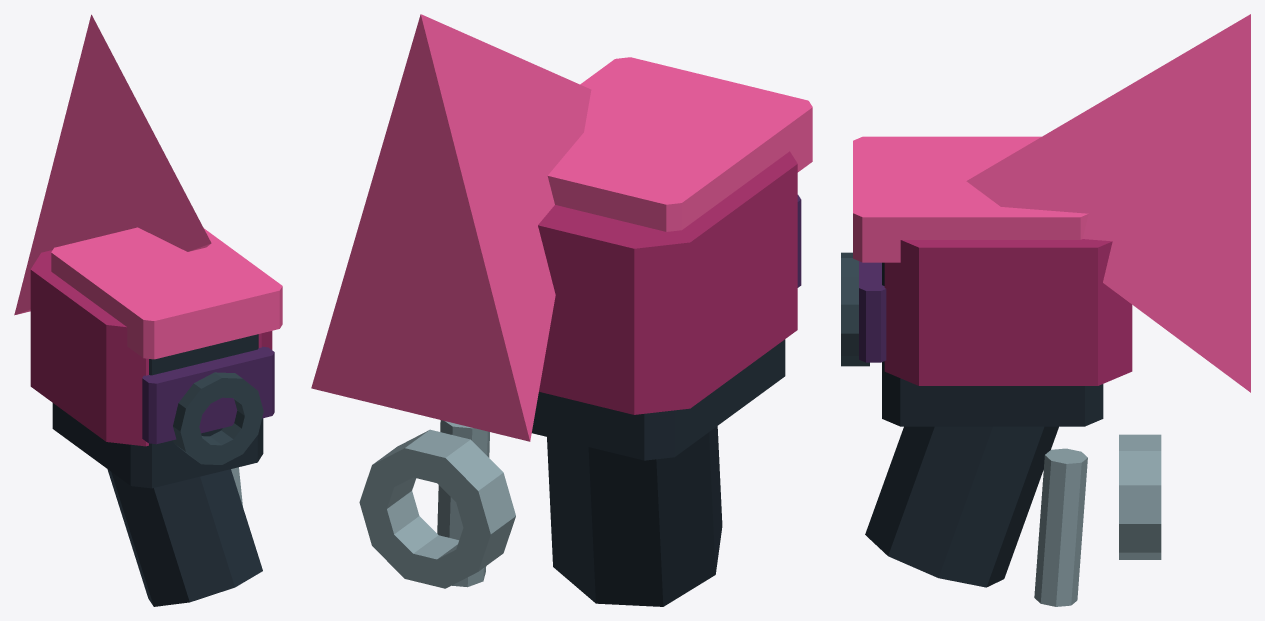
File: enemy_striker_upper_arm_r.obj
3 renders of one model, left to right at view 1: azimuth 30°, elevation 25°; view 2: azimuth 150°, elevation 25°; view 3: azimuth 270°, elevation 25°, orthographic. The views are drawn at different scales.
Size of the model in its own units: 0.535 by 1.21 by 0.7775.
